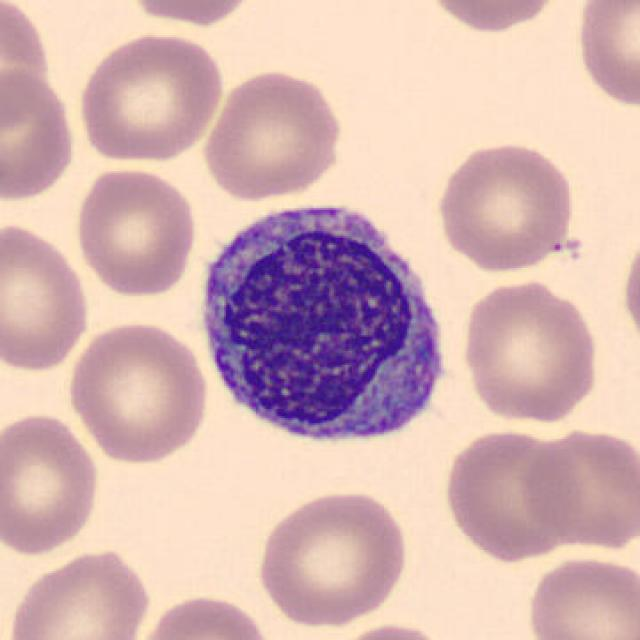Monocyte: (188, 187, 458, 458)
RBC: (252, 486, 412, 630), (62, 318, 212, 466), (457, 275, 603, 427), (74, 28, 226, 166), (199, 65, 347, 205), (432, 136, 580, 275), (439, 425, 581, 564), (71, 164, 201, 298), (518, 423, 638, 552), (0, 409, 103, 559), (0, 218, 92, 375), (4, 545, 154, 640), (0, 63, 80, 203), (523, 552, 638, 640), (0, 0, 55, 138), (571, 0, 638, 111), (131, 590, 277, 640), (417, 0, 567, 35), (119, 0, 265, 28), (618, 222, 640, 356), (322, 619, 455, 640)
